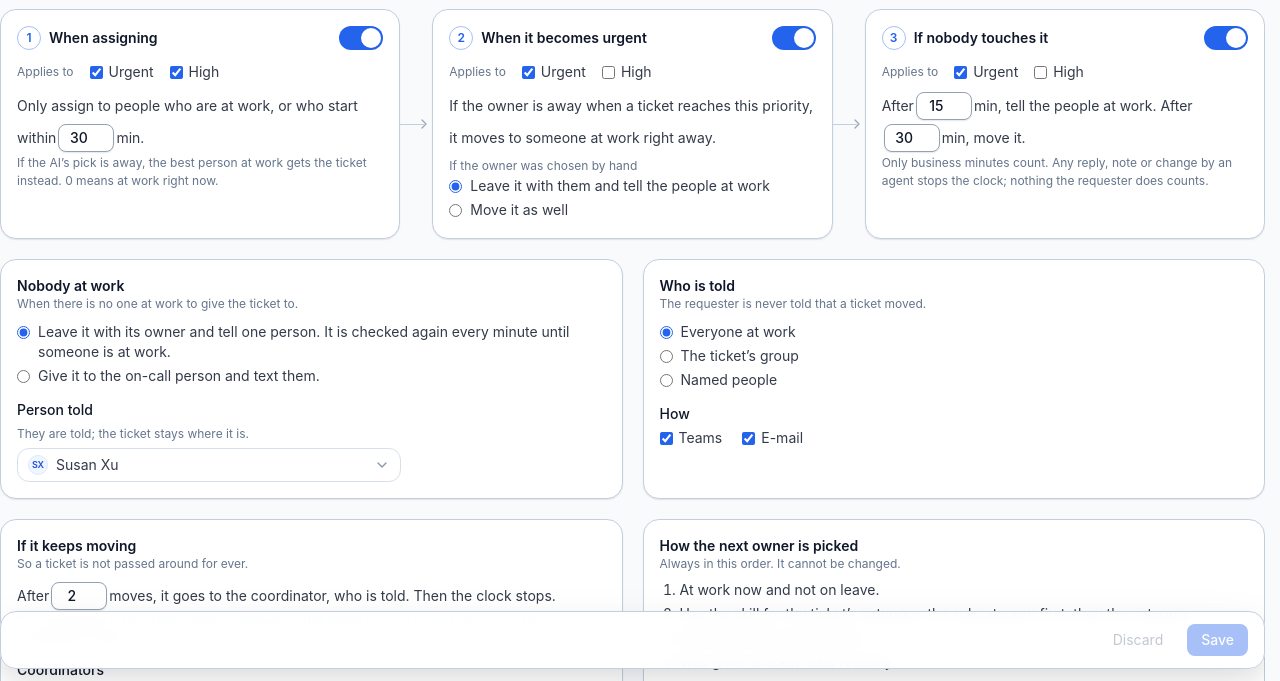
Test case: Urgent response: Rules › the estimate waits while there is a problem
Clear the number field named "Minutes before the ticket moves" at (912, 138), box [884,124,940,152]
(page scrolled)
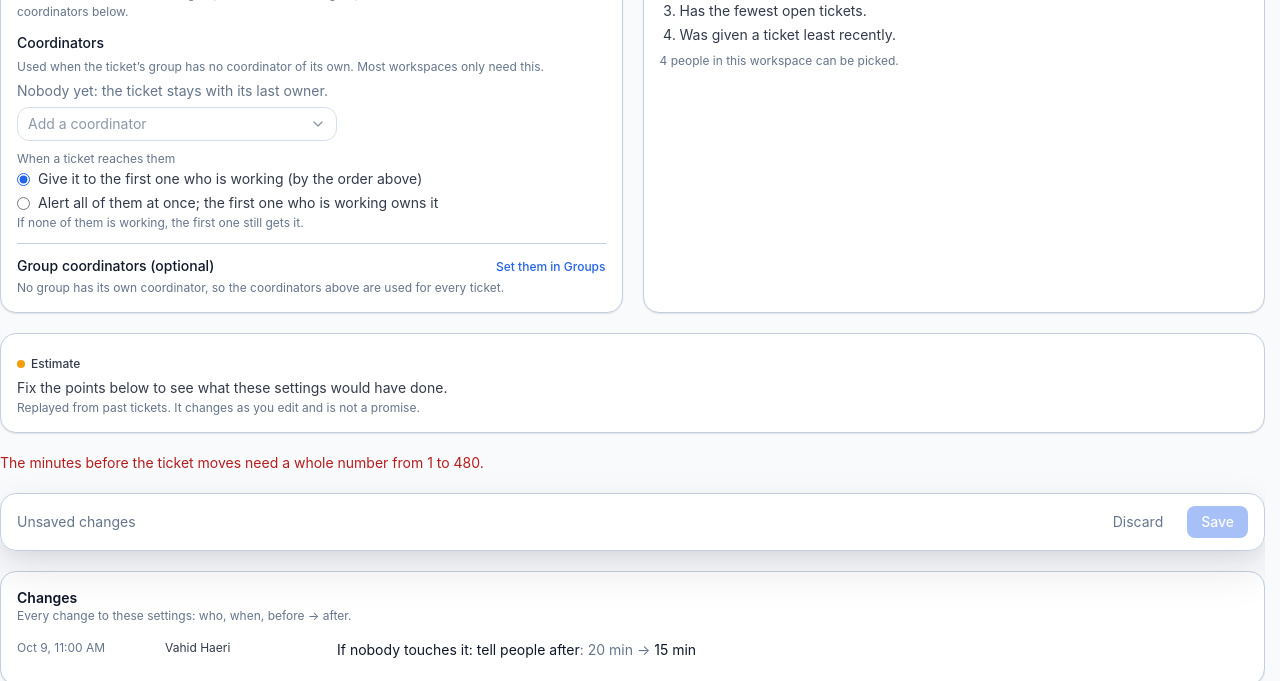
Expected: the element with test id "urgent-preview" shows "Fix the points below", [17,379,447,396]
